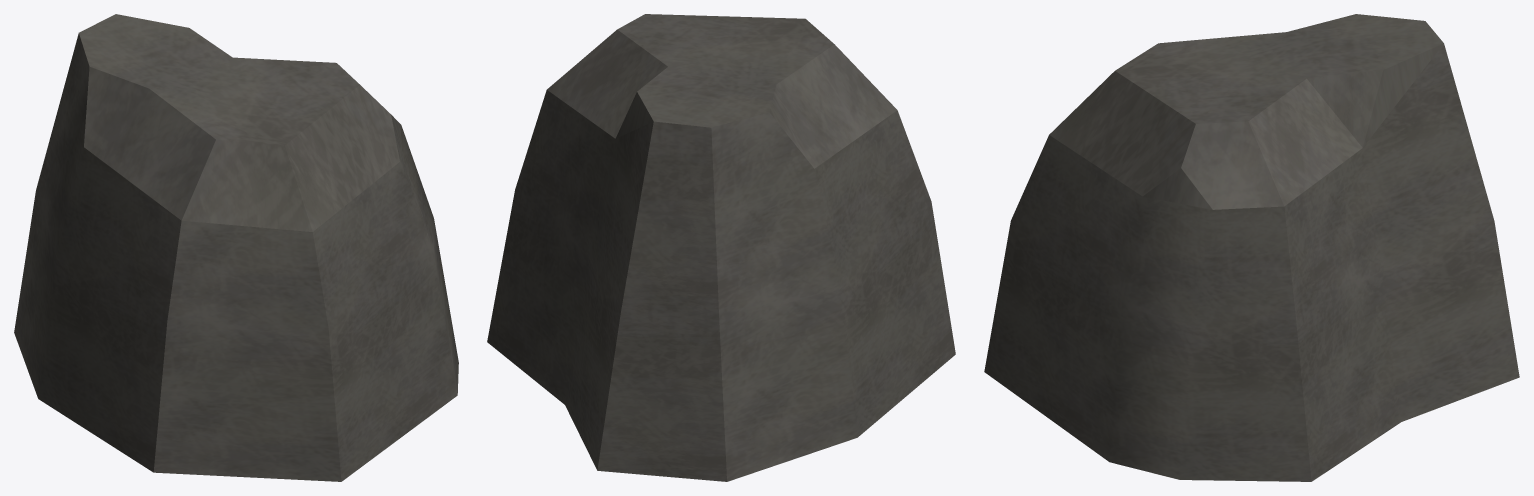
File: ZachMesaRock27.fbx
3 renders of one model, left to right at view 1: azimuth 30°, elevation 25°; view 2: azimuth 150°, elevation 25°; view 3: azimuth 270°, elevation 25°, orthographic. The views are drawn at different scales.
Visible parts, largest first — view 1: ZachMesaRock27; view 2: ZachMesaRock27; view 3: ZachMesaRock27.
Part boxes in pixels (box(x1,y1,x2,y2)): ZachMesaRock27: box(14, 14, 458, 481); ZachMesaRock27: box(487, 14, 955, 481); ZachMesaRock27: box(984, 14, 1519, 481).
Size of the model in its own units: 2.06 by 1.71 by 2.55.
